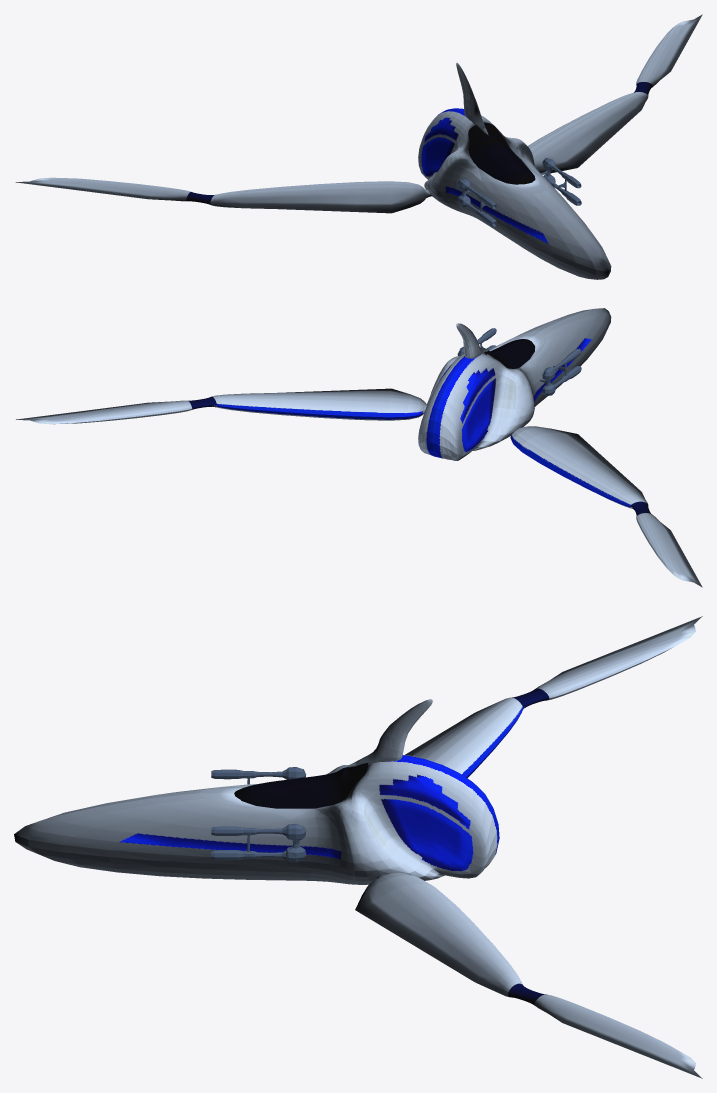
File: HumanSpaceFighter.obj
The picture shows the model from 3 angles, top to bottom: view 1: azimuth 30°, elevation 25°; view 2: azimuth 150°, elevation 25°; view 3: azimuth 270°, elevation 25°; orthographic projection. The views are drawn at different scales.
Parts seen in each view (by area): view 1: Fuselage, RightGuns, LeftGuns; view 2: Fuselage, RightGuns; view 3: Fuselage, LeftGuns, RightGuns.
Boxes of the visible parts, box(x1,y1,x2,y2) form: Fuselage: box(15, 14, 702, 279); RightGuns: box(457, 178, 496, 226); LeftGuns: box(541, 158, 581, 205); Fuselage: box(16, 308, 702, 587); RightGuns: box(539, 348, 581, 396); Fuselage: box(14, 616, 702, 1078); LeftGuns: box(211, 823, 306, 862); RightGuns: box(211, 767, 306, 784).
Size of the model in its own units: 33.69 by 6.07 by 21.19.
Materials: 4 (2 with a texture image).
